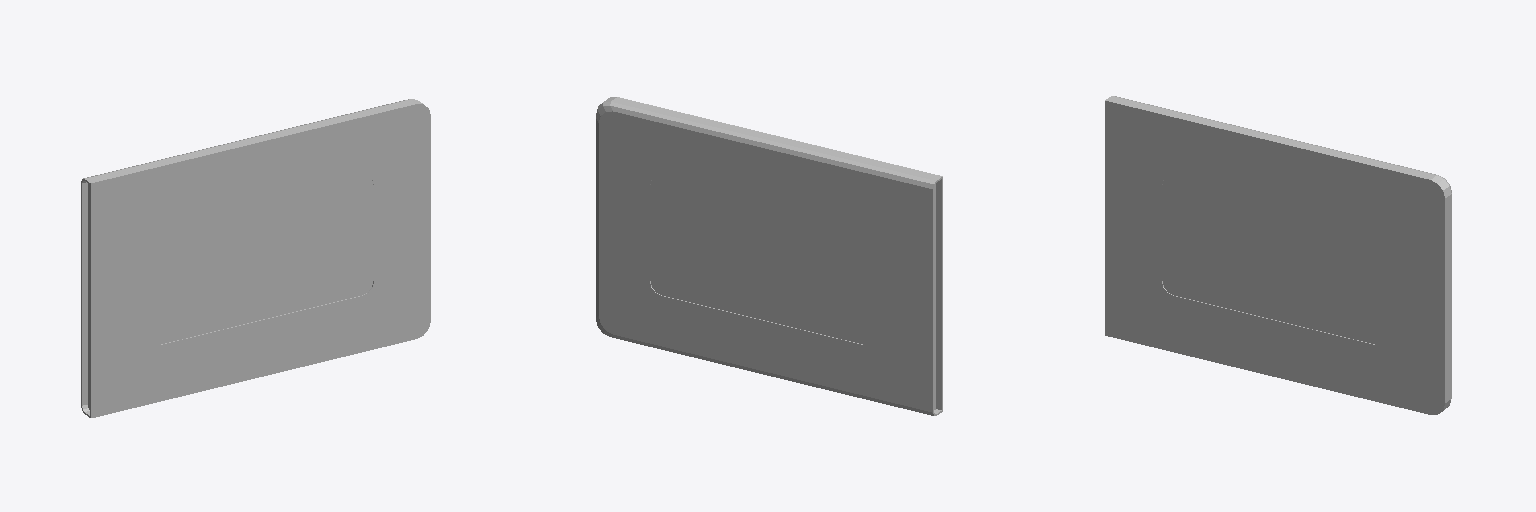
The model's file is data microwave door.obj.
3 views of the same model, side by side, from view 1: azimuth 30°, elevation 25°; view 2: azimuth 150°, elevation 25°; view 3: azimuth 330°, elevation 25° (orthographic).
Visible parts, largest first — view 1: Plane.013_Plane.019, Plane.011_Plane.017; view 2: Plane.017_Plane.023, Plane.013_Plane.019, Plane.011_Plane.017; view 3: Plane.013_Plane.019, Plane.011_Plane.017.
Part boxes in pixels (x1,y1,x2,y2): Plane.013_Plane.019: (81,99,430,417); Plane.011_Plane.017: (148,177,373,344); Plane.017_Plane.023: (621,137,932,391); Plane.013_Plane.019: (596,97,942,415); Plane.011_Plane.017: (650,177,875,344); Plane.013_Plane.019: (1105,96,1451,414); Plane.011_Plane.017: (1162,177,1387,344).
Bounding box in the file's own units: 5.98 × 3.95 × 0.3.